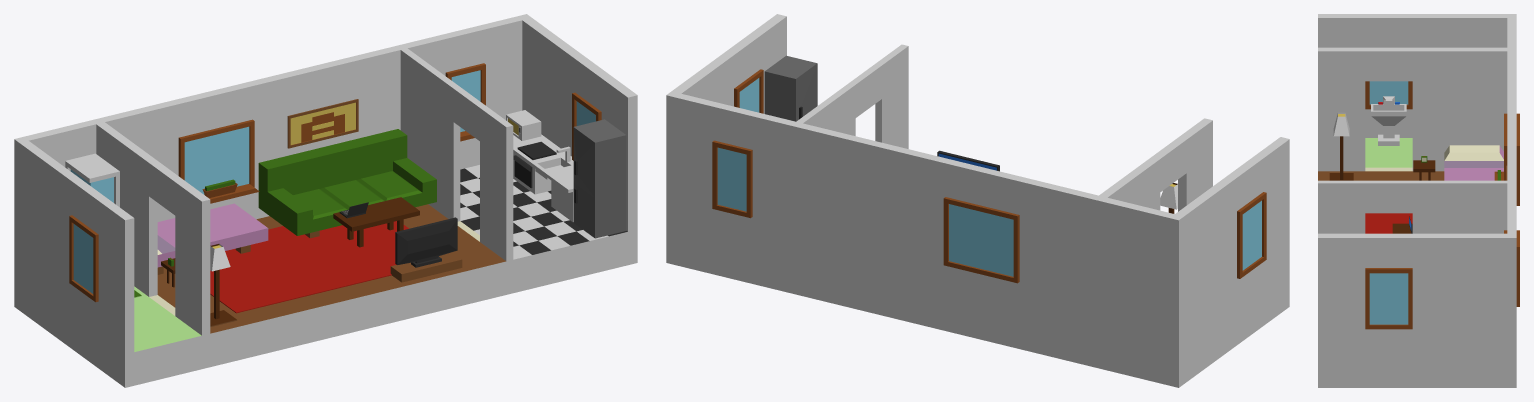
Rendered from Flat.fbx.
The picture shows the model from 3 angles, left to right: view 1: azimuth 30°, elevation 25°; view 2: azimuth 150°, elevation 25°; view 3: azimuth 270°, elevation 25°; orthographic projection. The views are drawn at different scales.
Visible parts, largest first — view 1: Cube; view 2: Cube; view 3: Cube.
Part boxes in pixels (box(x1,y1,x2,y2)): Cube: box(14, 14, 637, 387); Cube: box(666, 14, 1289, 387); Cube: box(1318, 14, 1519, 387).
Bounding box in the file's own units: 1620 × 500 × 610.
